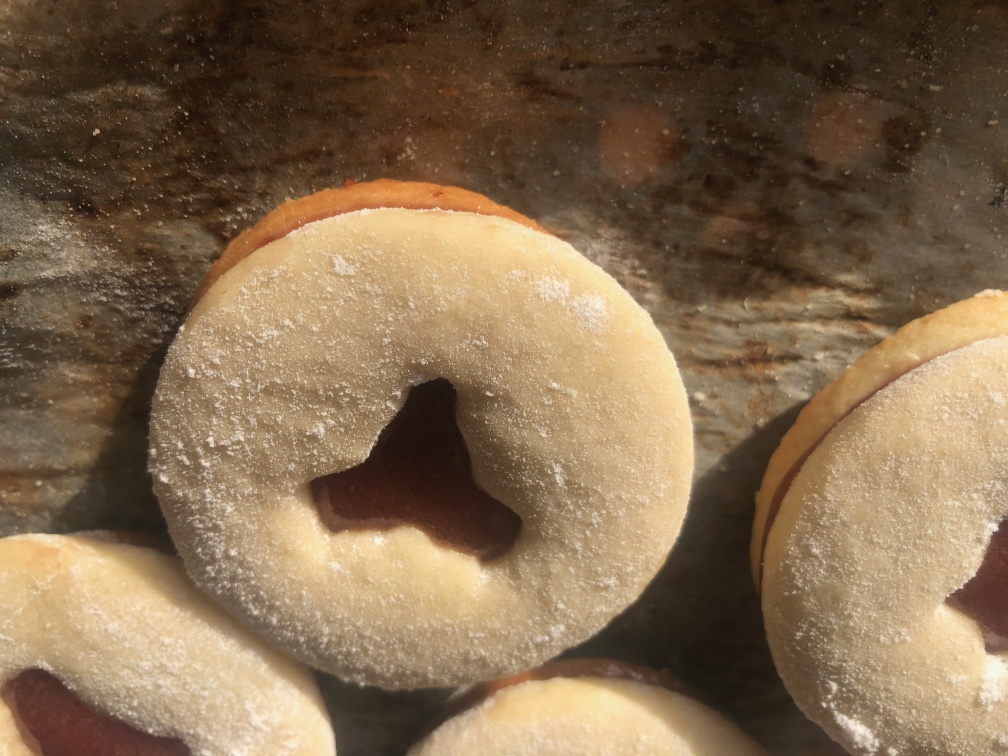christmas shortbread with jam: (149, 176, 699, 694), (757, 281, 1008, 756)
